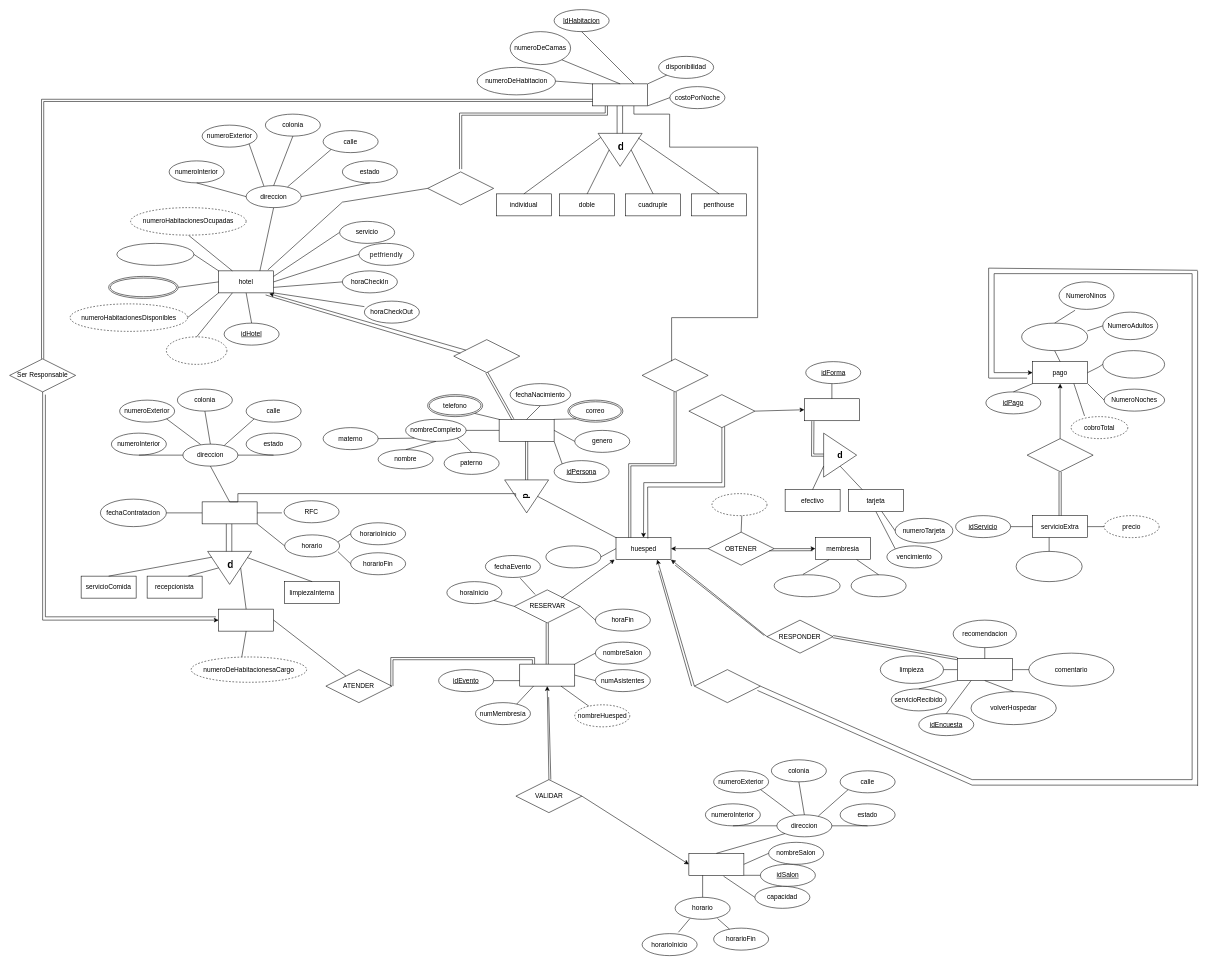
The diagram is 1208 pixels wide and 965 high, and some of its shapes have lost their labels. Each missing label, with the centre of its shape:
"activa" goes at (x=878, y=585).
"AGREGAR" goes at (x=1060, y=455).
"DISPONER" goes at (x=460, y=188).
"ELEGIR" goes at (x=721, y=411).
"empleado" goes at (x=229, y=512).
"encuesta" goes at (x=984, y=669).
"evento" goes at (x=547, y=675).
"formaDePago" goes at (x=831, y=409).
"habitacion" goes at (x=620, y=94).
"nacionalidad" goes at (x=573, y=556).
"nombreEstablecimiento" goes at (x=155, y=254).
"numeroHuespedes" goes at (x=1054, y=337).
"NumeroMascotas" goes at (x=1133, y=364).
"numeroMembresia" goes at (x=807, y=585).
"numeroPlatos" goes at (x=1049, y=566).
"persona" goes at (x=526, y=430).
"personalDeApoyo" goes at (x=246, y=620).
"REALIZAR" goes at (x=727, y=686).
"RENTAR" goes at (x=675, y=375).
"salon" goes at (x=716, y=864).
"telefonoHotel" goes at (x=143, y=287).
"TENER" goes at (x=486, y=356).
"totalHabitaciones" goes at (x=196, y=350).
"Visitas por año" goes at (x=739, y=504).
